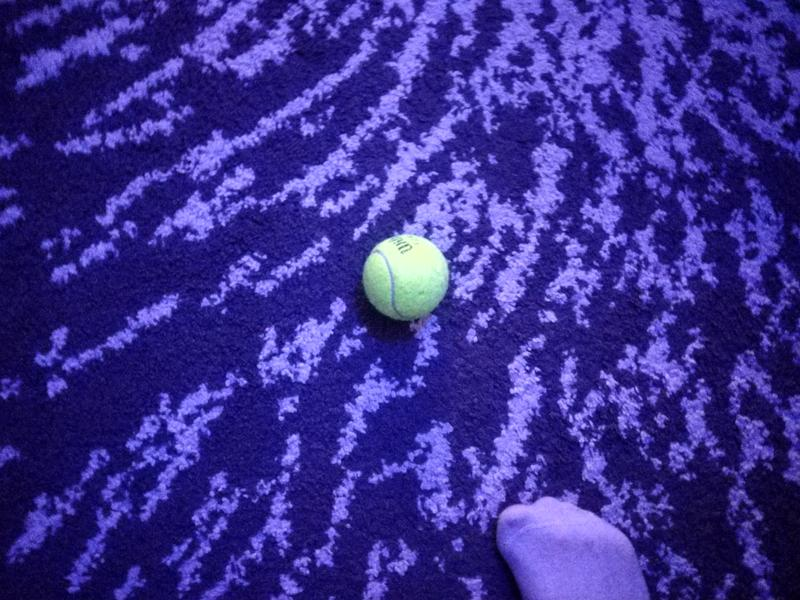Tennisball: (356, 231, 451, 325)
